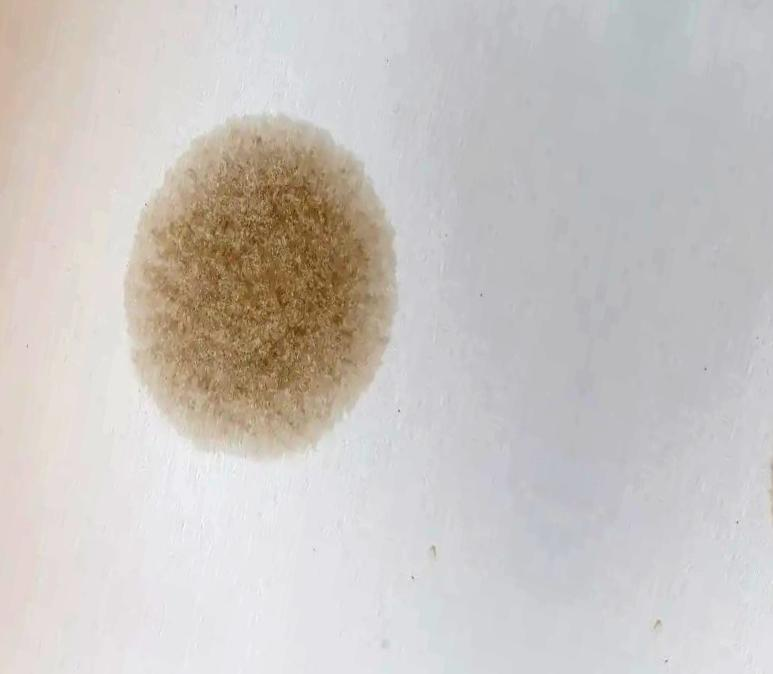stain: (113, 98, 405, 472)
